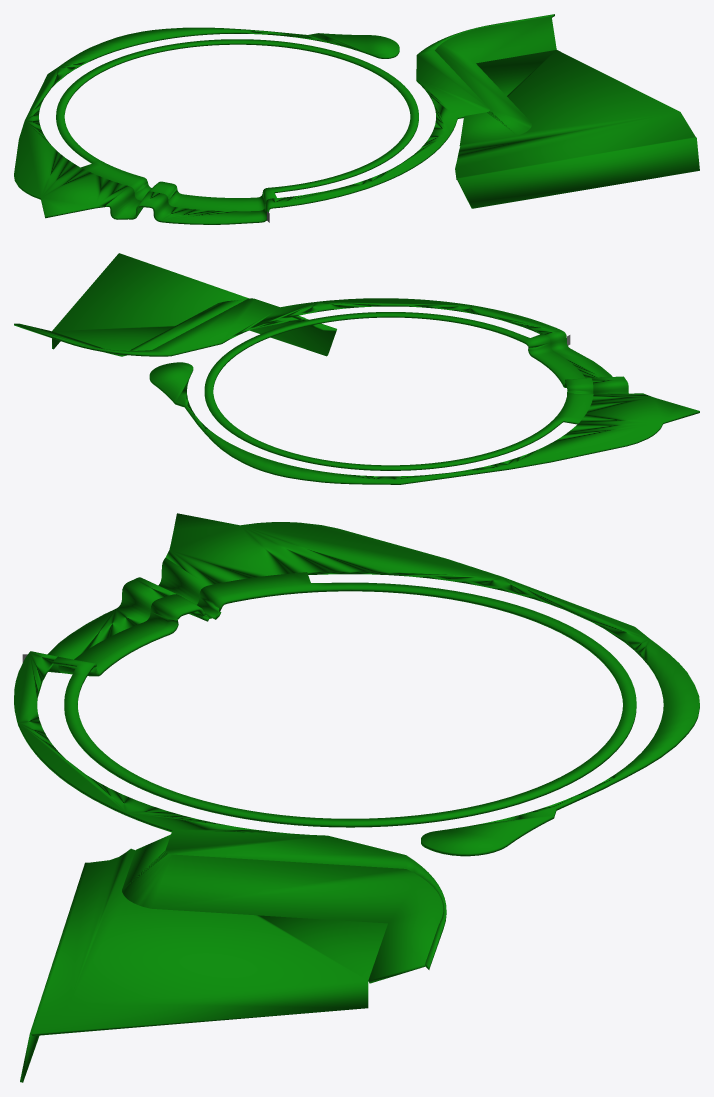
The model's file is green.obj.
3 renders of one model, top to bottom at view 1: azimuth 30°, elevation 25°; view 2: azimuth 150°, elevation 25°; view 3: azimuth 270°, elevation 25°, orthographic. The views are drawn at different scales.
Visible parts, largest first — view 1: Box003; view 2: Box003; view 3: Box003.
Part boxes in pixels (x1,y1,x2,y2): Box003: (14, 14, 699, 224); Box003: (14, 253, 699, 484); Box003: (14, 513, 699, 1082).
Bounding box in the file's own units: 6476 × 673 × 4031.
